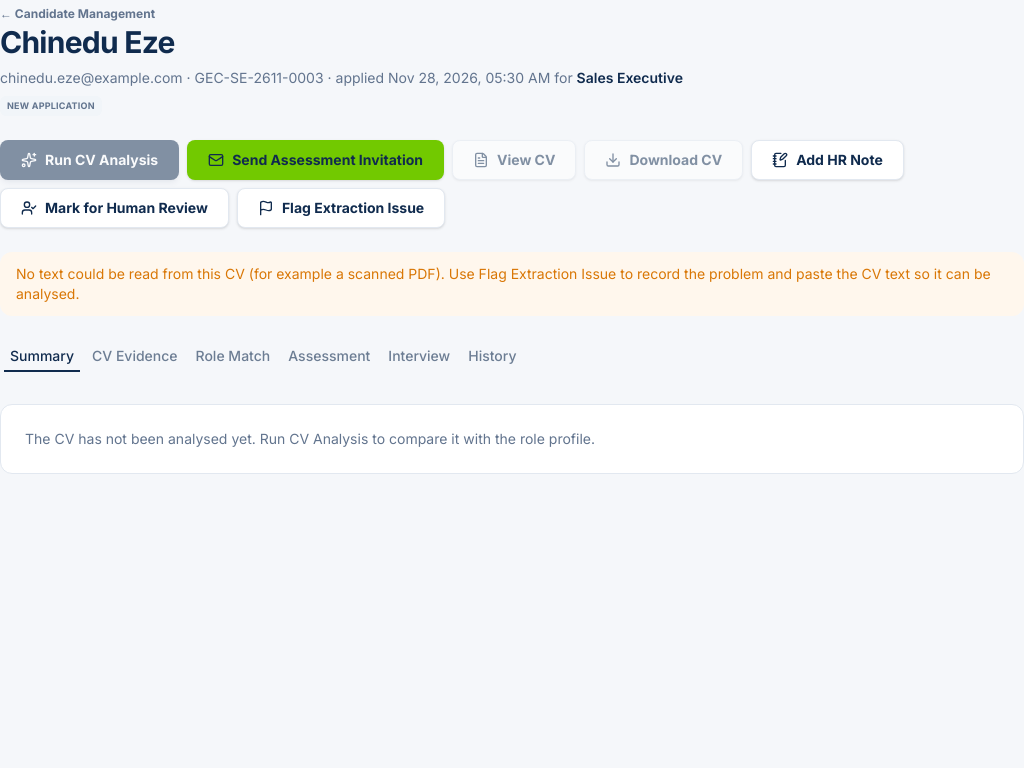
Scenario: Candidate profile and CV analysis › explains when a CV has no readable text and lets HR paste it
Expected: the text "No text could be read from this CV" is shown, left=16, top=264, right=991, bottom=302
Expected: the button "Run CV Analysis" is disabled, left=0, top=140, right=179, bottom=180
Click the button "Flag Extraction Issue": point(341, 208) left=237, top=188, right=445, bottom=228
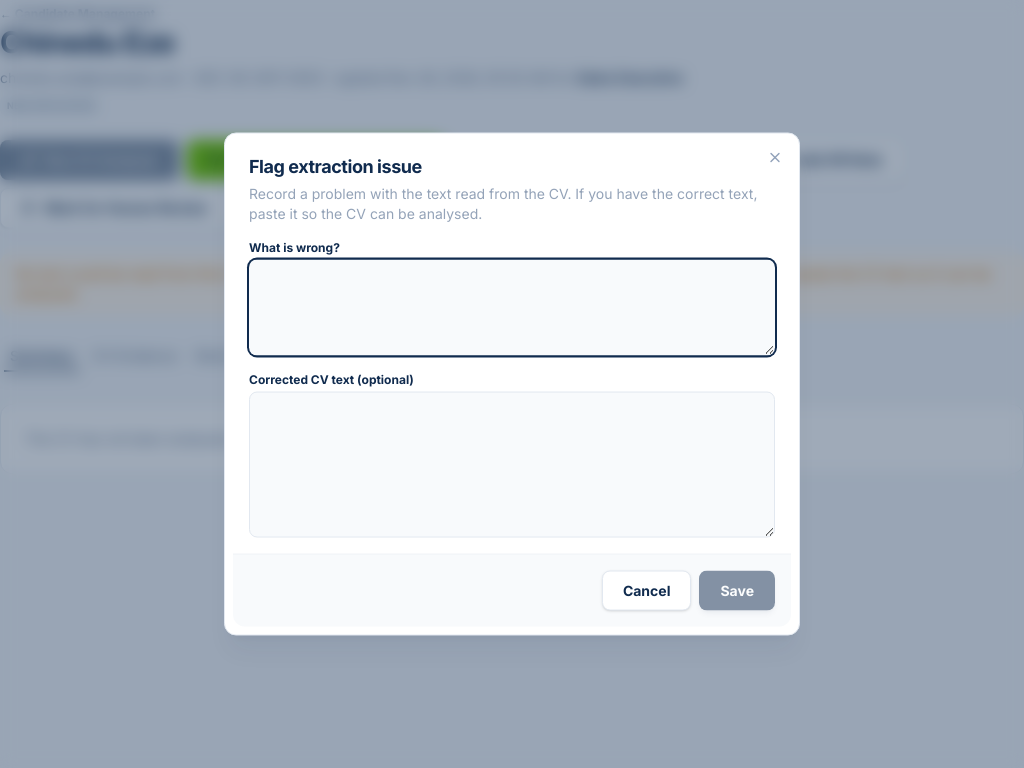
In the text box labelled "What is wrong?": point(512, 308) left=249, top=260, right=775, bottom=356, type "Scanned image"
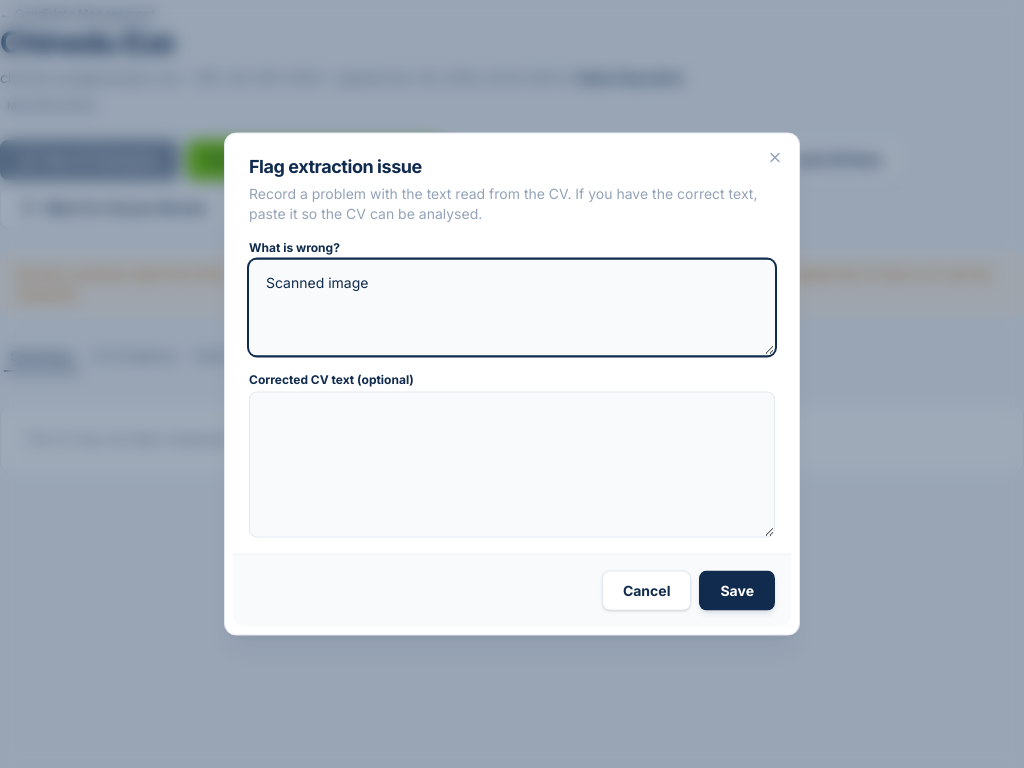
In the text box labelled "Corrected CV text (optional)": point(512, 464) left=249, top=392, right=775, bottom=538, type "Chinedu Eze. Sales Representative at Delta Foods. Planned delivery routes for 80 outlets every week."
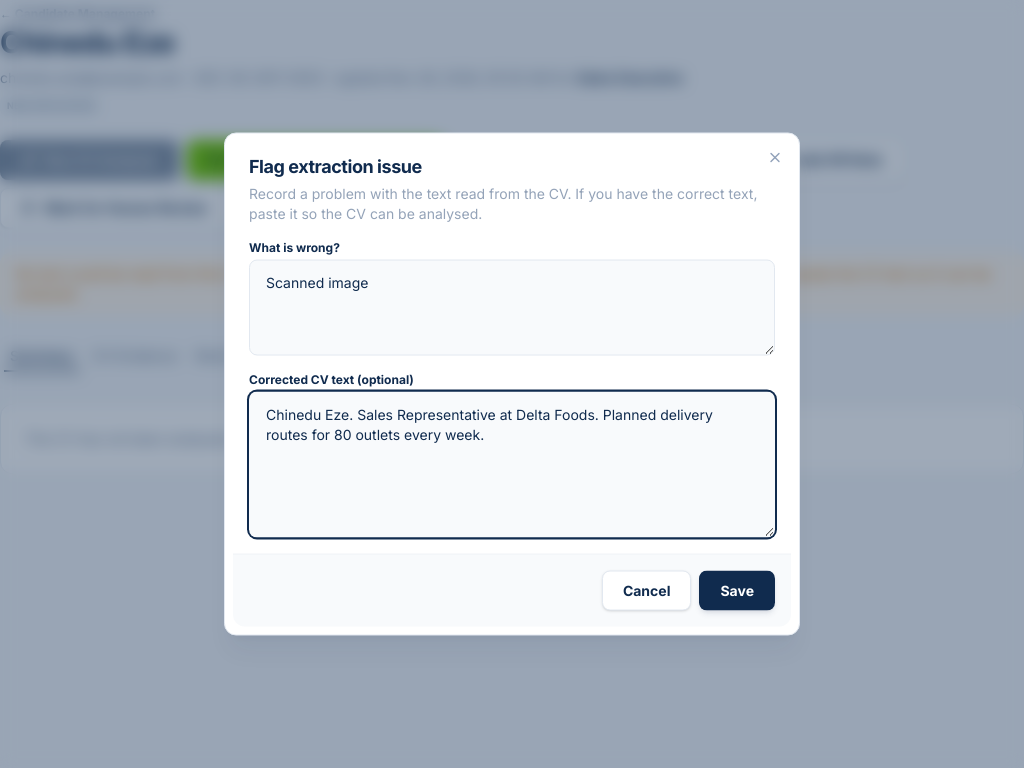
Click the button "Save": point(737, 590) left=700, top=570, right=775, bottom=610
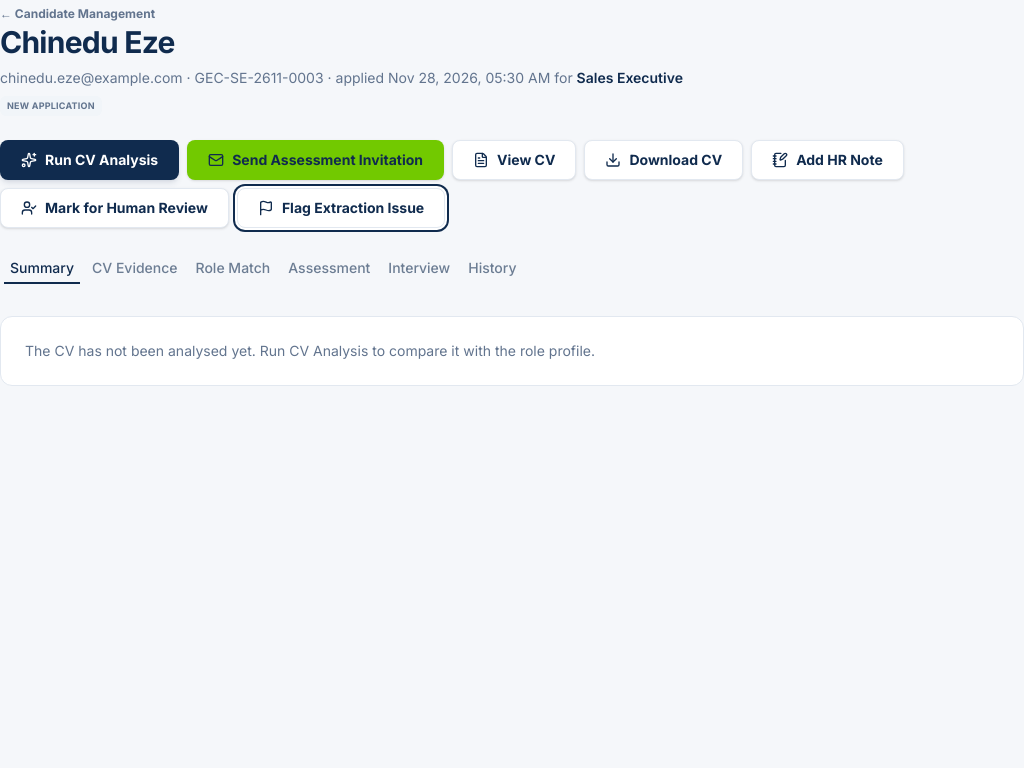
Now the button "Run CV Analysis" is enabled, box left=0, top=140, right=179, bottom=180
